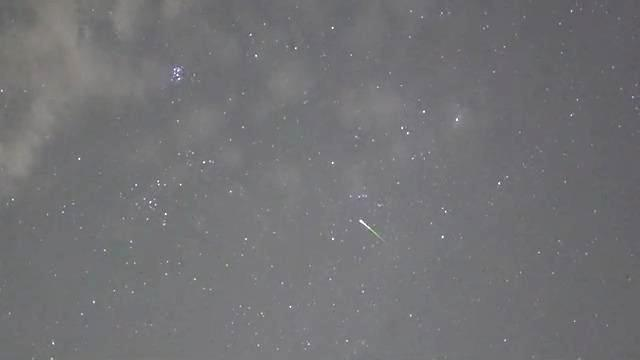meteorite: (332, 216, 405, 243)
